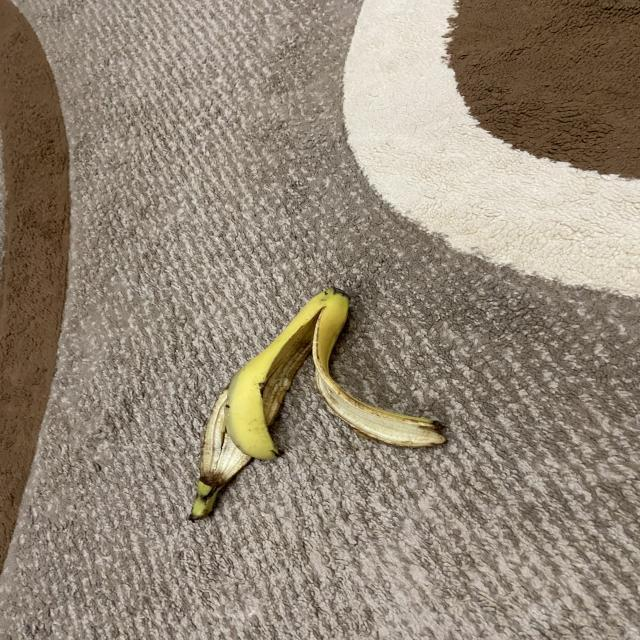banana-peel: (187, 285, 447, 521)
